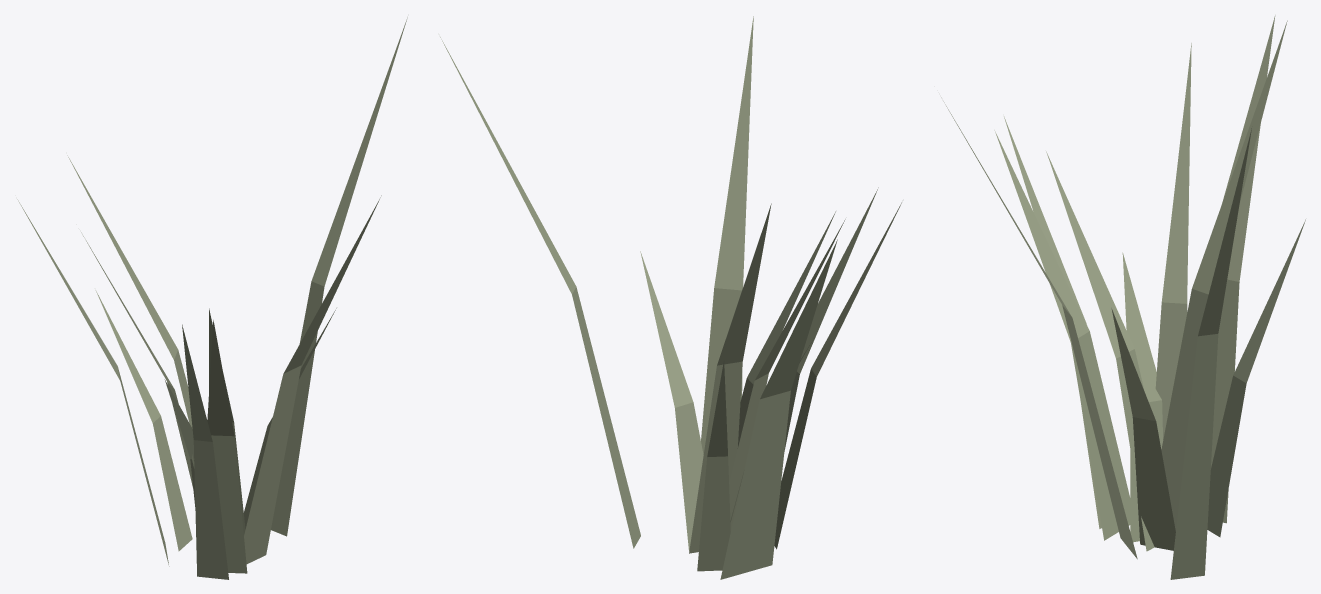
File: AE_Grass_4_-3.fbx
3 renders of one model, left to right at view 1: azimuth 30°, elevation 25°; view 2: azimuth 150°, elevation 25°; view 3: azimuth 270°, elevation 25°, orthographic. The views are drawn at different scales.
Visible parts, largest first — view 1: AE_Grass_4_-3_LOD0; view 2: AE_Grass_4_-3_LOD0; view 3: AE_Grass_4_-3_LOD0.
Part boxes in pixels (x1=…): AE_Grass_4_-3_LOD0: x1=17, y1=17, x2=407, y2=579; AE_Grass_4_-3_LOD0: x1=440, y1=16, x2=901, y2=579; AE_Grass_4_-3_LOD0: x1=941, y1=15, x2=1305, y2=579.
Size of what is drawn, in the model's own units: 38.92 by 44.39 by 27.61.
